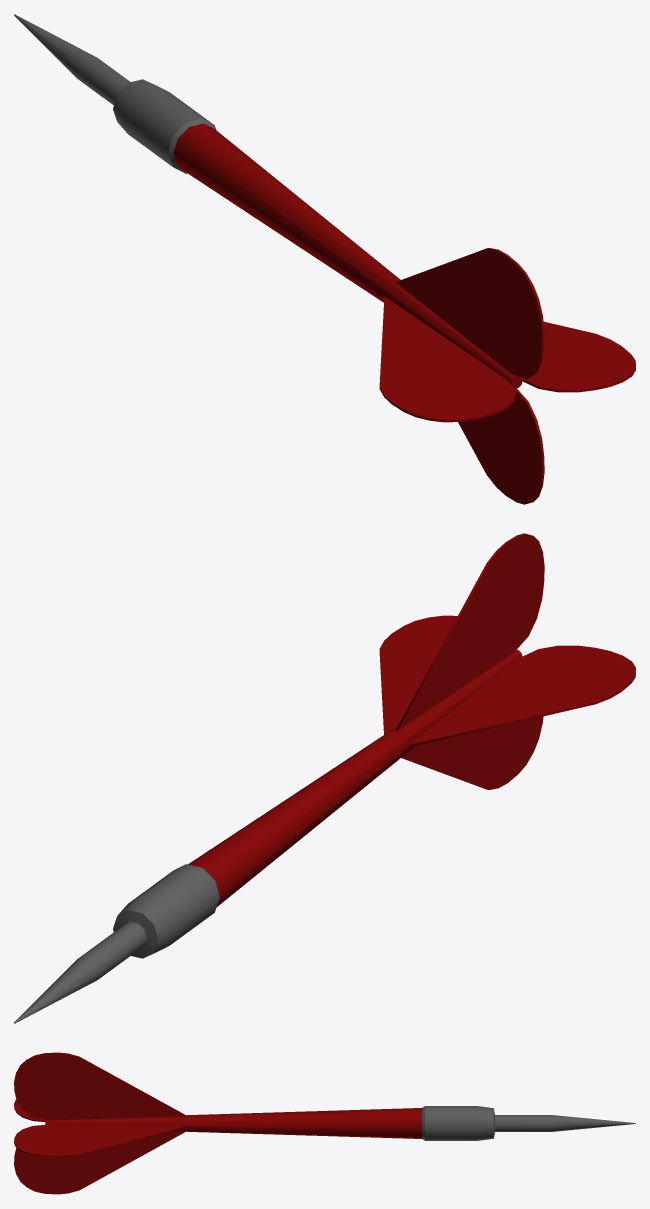
Rendered from Dart_Red.FBX.
The picture shows the model from 3 angles, top to bottom: view 1: azimuth 30°, elevation 25°; view 2: azimuth 150°, elevation 25°; view 3: azimuth 270°, elevation 25°; orthographic projection. The views are drawn at different scales.
Visible parts, largest first — view 1: Dart_Red; view 2: Dart_Red; view 3: Dart_Red.
Part boxes in pixels (x1=…): Dart_Red: x1=14, y1=14, x2=635, y2=504; Dart_Red: x1=14, y1=533, x2=635, y2=1023; Dart_Red: x1=14, y1=1052, x2=635, y2=1194.
Size of the model in its own units: 0.0358 by 0.0358 by 0.1428.
